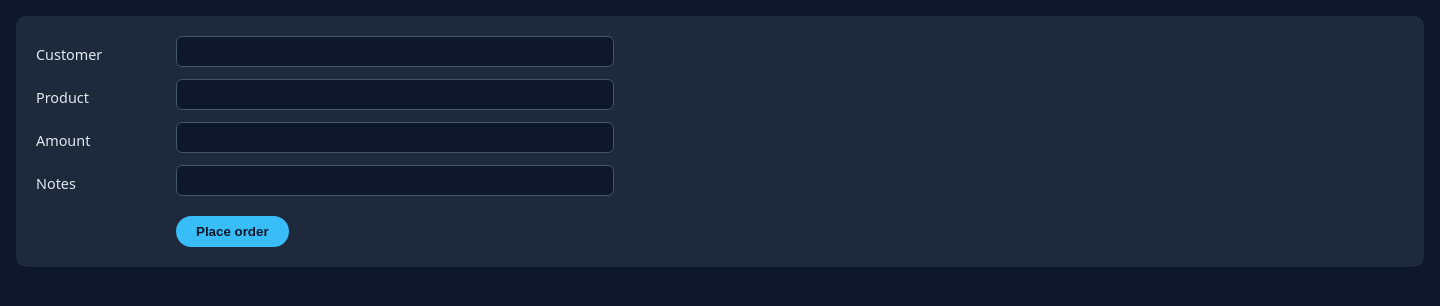
Test case: PlaceOrderForm › refuses to send an order with an empty amount
Type "Alice" into the field labelled "Customer". click: x=395, y=52
box: left=176, top=36, right=614, bottom=67
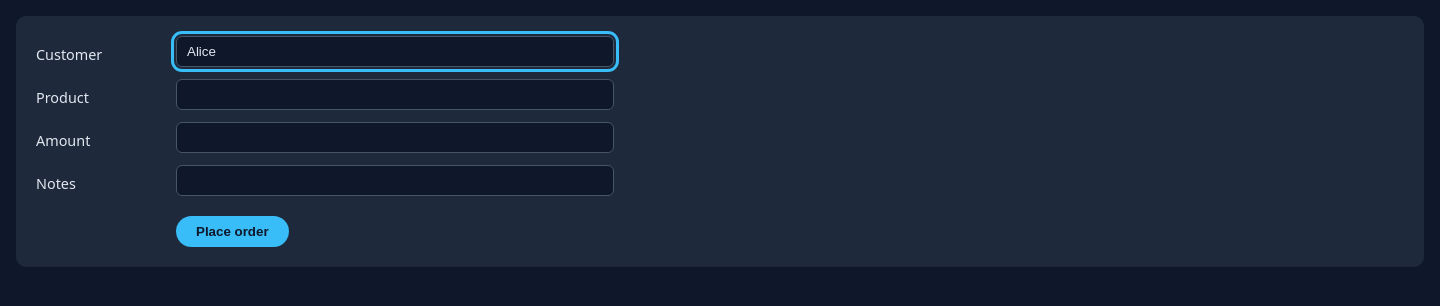
Type "Headphones" into the field labelled "Product". click: x=395, y=94
box: left=176, top=79, right=614, bottom=110
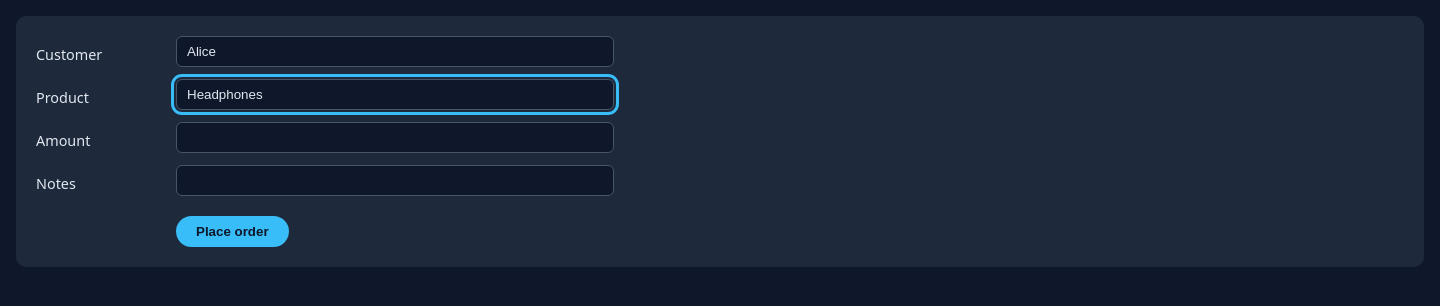
Click the button "Place order". click: x=232, y=232
box: left=176, top=216, right=289, bottom=247
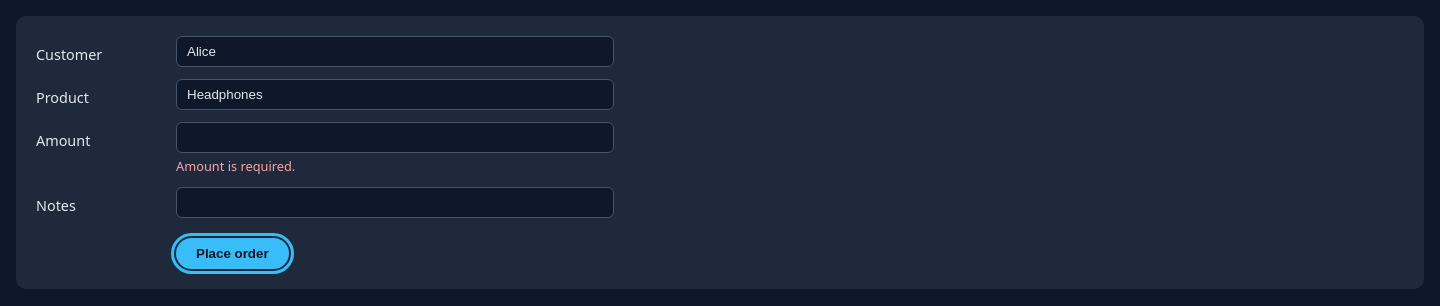
Expected: the text "Amount is required." is shown, left=176, top=157, right=295, bottom=175
